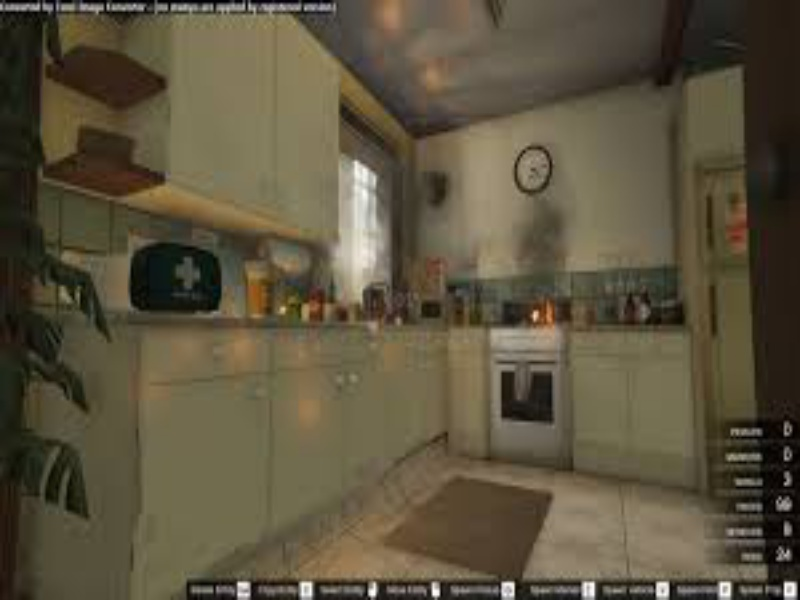fire: (542, 290, 561, 329)
